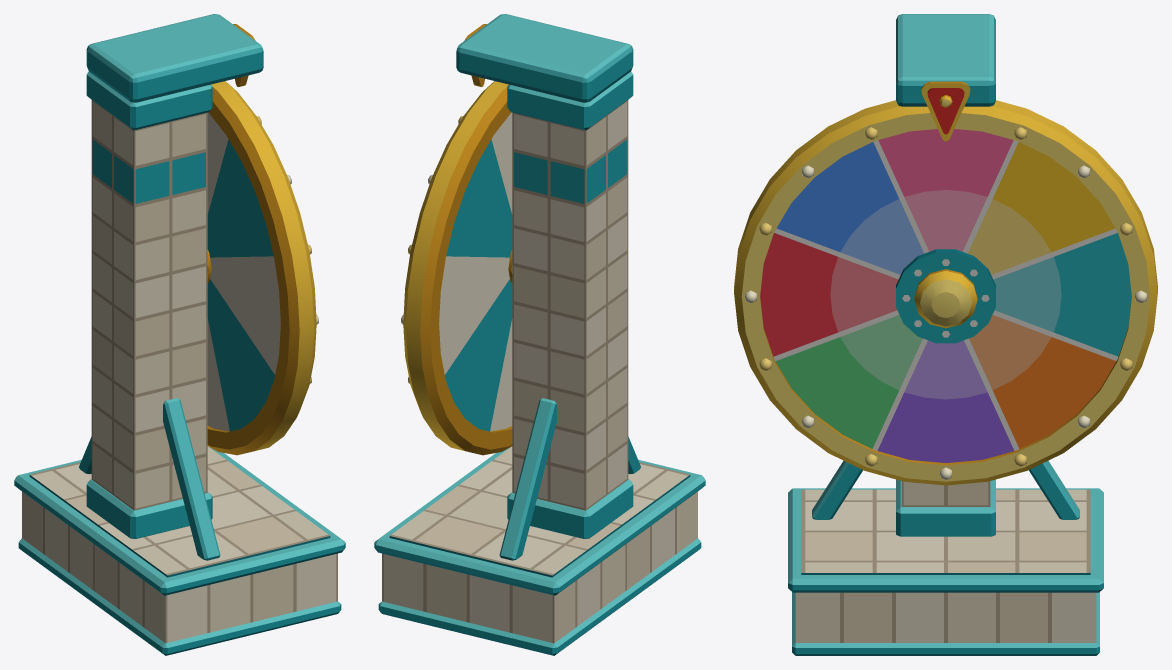
Rendered from fortune_wheel.glb.
The picture shows the model from 3 angles, left to right: view 1: azimuth 30°, elevation 25°; view 2: azimuth 150°, elevation 25°; view 3: azimuth 270°, elevation 25°; orthographic projection. The views are drawn at different scales.
Parts seen in each view (by area): view 1: Stand, Wheel; view 2: Stand, Wheel; view 3: Wheel, Stand.
Boxes of the visible parts, <box> form: Stand: <box>14,14,345,655</box>; Wheel: <box>207,81,318,455</box>; Stand: <box>374,14,705,655</box>; Wheel: <box>401,81,512,455</box>; Wheel: <box>734,100,1157,485</box>; Stand: <box>788,14,1103,655</box>.
Size of the model in its own units: 1.16 by 3.23 by 2.2.
